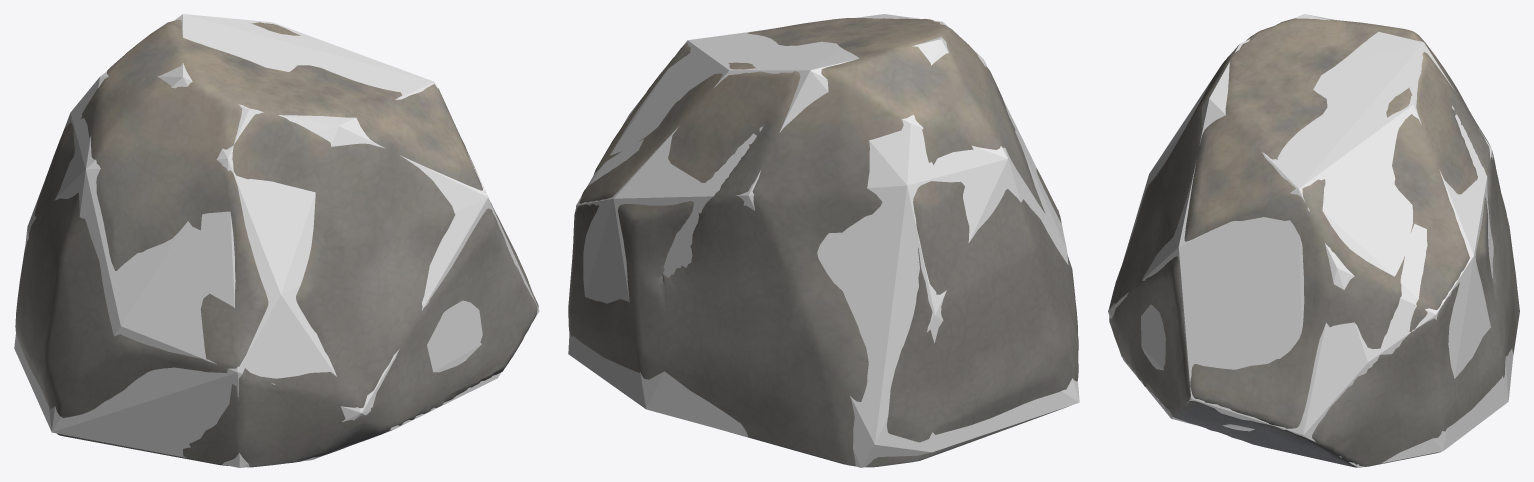
Rendered from IO_Rock_Large_B.glb.
3 views of the same model, side by side, from view 1: azimuth 30°, elevation 25°; view 2: azimuth 150°, elevation 25°; view 3: azimuth 270°, elevation 25° (orthographic). The views are drawn at different scales.
Parts seen in each view (by area): view 1: IO_Rock_Large_B_LOD0, IO_Rock_Large_B_COL; view 2: IO_Rock_Large_B_LOD0, IO_Rock_Large_B_COL; view 3: IO_Rock_Large_B_LOD0, IO_Rock_Large_B_COL.
Part boxes in pixels (x1,y1,x2,y2): IO_Rock_Large_B_LOD0: (15,20,538,467); IO_Rock_Large_B_COL: (14,14,539,467); IO_Rock_Large_B_LOD0: (568,18,1078,467); IO_Rock_Large_B_COL: (568,14,1079,467); IO_Rock_Large_B_LOD0: (1109,18,1519,467); IO_Rock_Large_B_COL: (1108,14,1513,467).
Size of what is drawn, in the model's own units: 3.29 by 2.18 by 2.63.
1 material, 1 textured.
